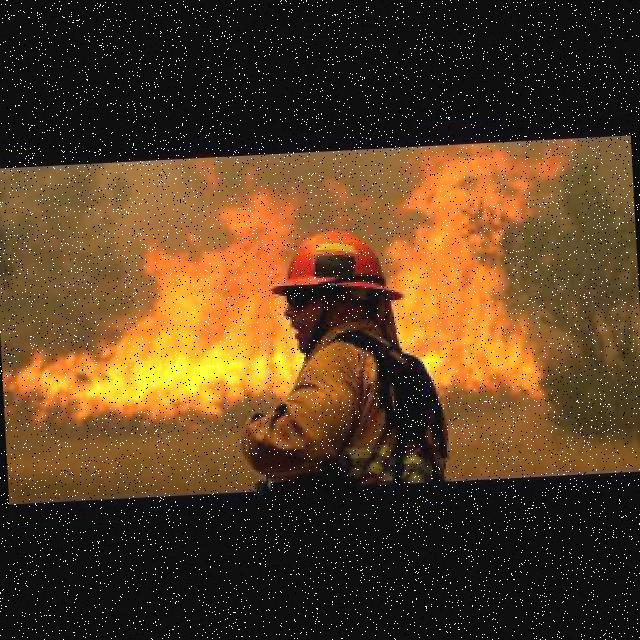Fire: (6, 147, 577, 434)
